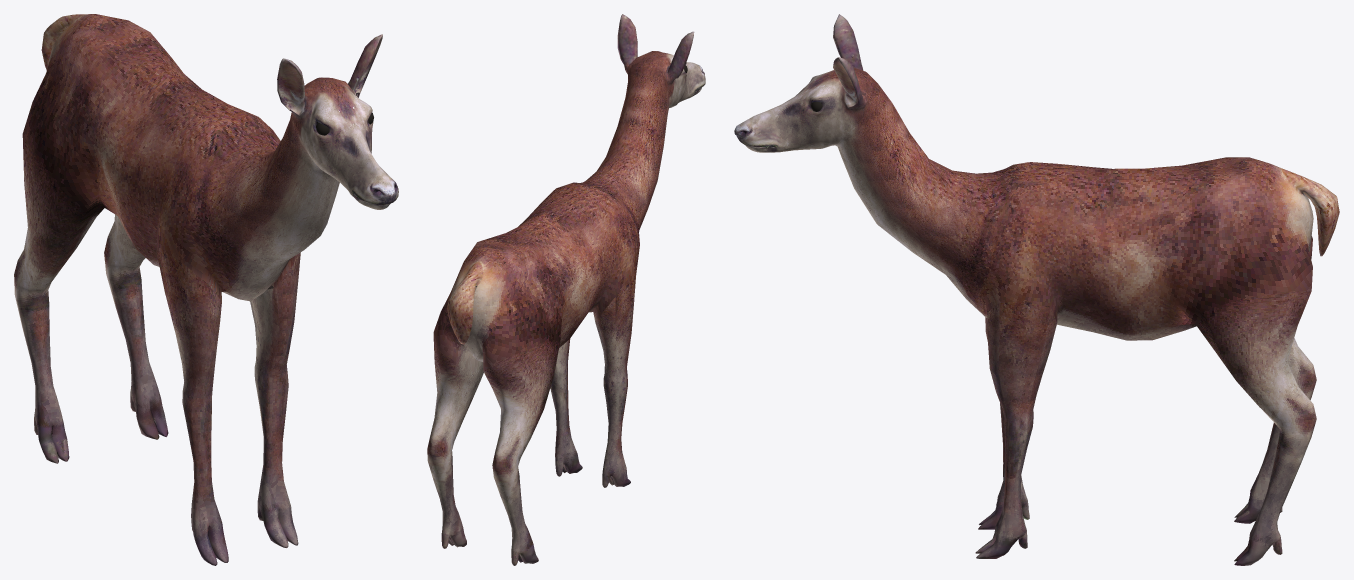
File: woodland-doe-clear.glb
3 renders of one model, left to right at view 1: azimuth 30°, elevation 25°; view 2: azimuth 150°, elevation 25°; view 3: azimuth 270°, elevation 25°, orthographic. The views are drawn at different scales.
Parts seen in each view (by area): view 1: woodland-doe-clear runtime mesh; view 2: woodland-doe-clear runtime mesh; view 3: woodland-doe-clear runtime mesh.
Boxes of the visible parts, bbox=[...] form: woodland-doe-clear runtime mesh: bbox=[14, 14, 398, 565]; woodland-doe-clear runtime mesh: bbox=[427, 14, 705, 565]; woodland-doe-clear runtime mesh: bbox=[734, 14, 1339, 565].
Bounding box in the file's own units: 0.383 × 1.45 × 1.57.
Materials: 3 (2 with a texture image).
